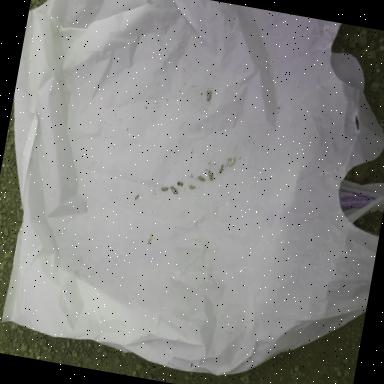pbw: (169, 186, 179, 195), (205, 90, 212, 102), (206, 170, 213, 182), (228, 158, 236, 168), (160, 186, 170, 192), (147, 234, 152, 246), (218, 164, 224, 174), (197, 175, 205, 182), (188, 186, 196, 192), (134, 194, 138, 200)
